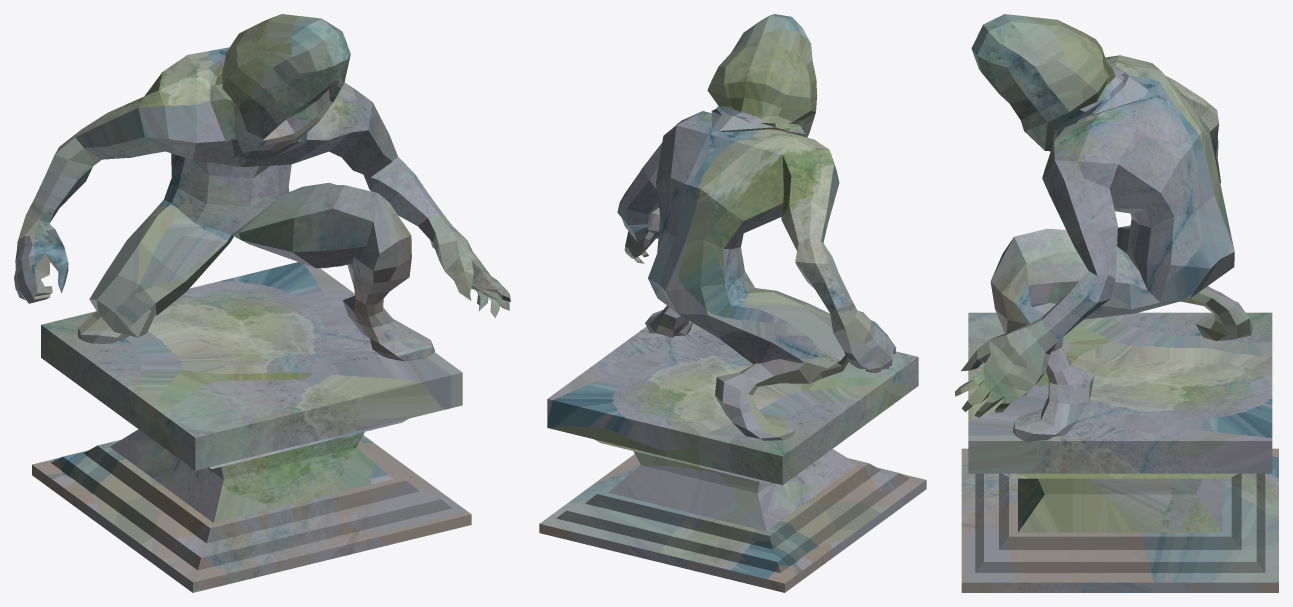
The model's file is M4_Sentry_untextured.fbx.
The picture shows the model from 3 angles, left to right: view 1: azimuth 30°, elevation 25°; view 2: azimuth 150°, elevation 25°; view 3: azimuth 270°, elevation 25°; orthographic projection. The views are drawn at different scales.
Visible parts, largest first — view 1: Ninja_posed; view 2: Ninja_posed; view 3: Ninja_posed.
Part boxes in pixels (<box>): Ninja_posed: <box>14,14,510,592</box>; Ninja_posed: <box>539,14,926,592</box>; Ninja_posed: <box>955,14,1278,592</box>.
Bounding box in the file's own units: 193 × 245 × 141.
